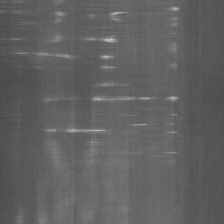waist_folding: (31, 20, 185, 168)
